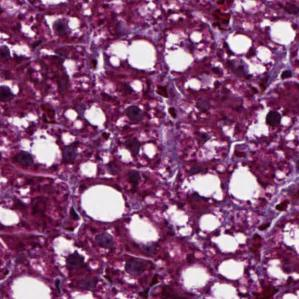ballooning: (107, 34, 156, 72), (80, 185, 126, 221), (229, 163, 263, 202), (269, 18, 296, 47), (225, 29, 254, 55), (178, 266, 211, 288), (220, 259, 246, 280)
